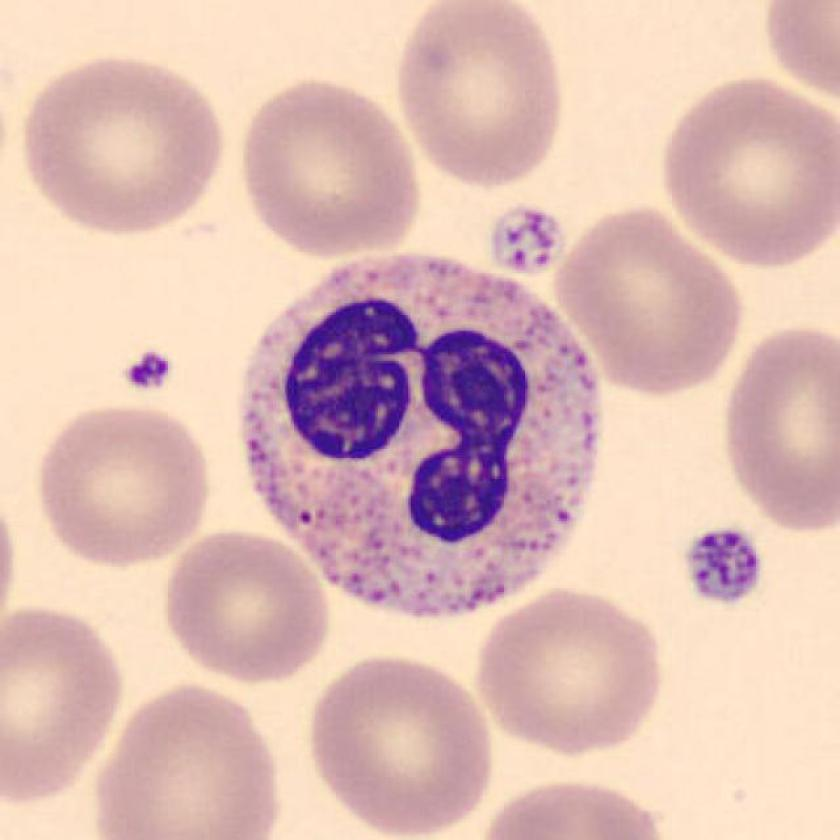neutrophil: (244, 256, 599, 617)
